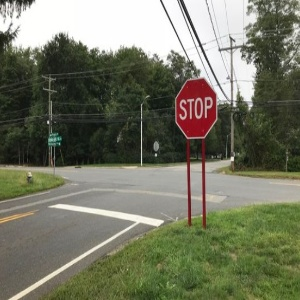stop: (174, 78, 217, 139)
